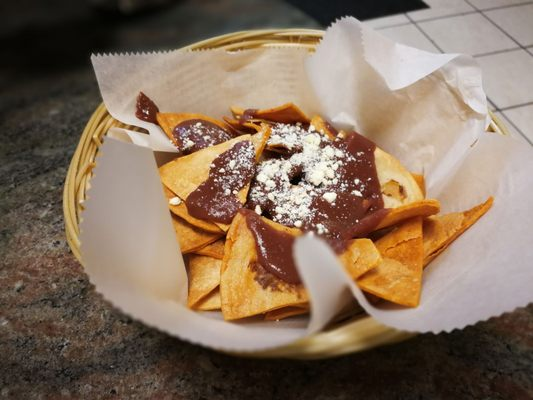soup: (219, 208, 309, 322)
